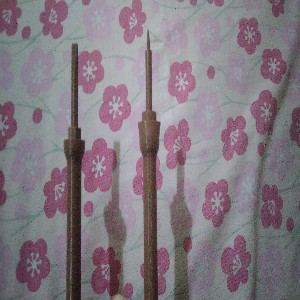obeng: (62, 41, 86, 300)
solder: (137, 29, 161, 300)
